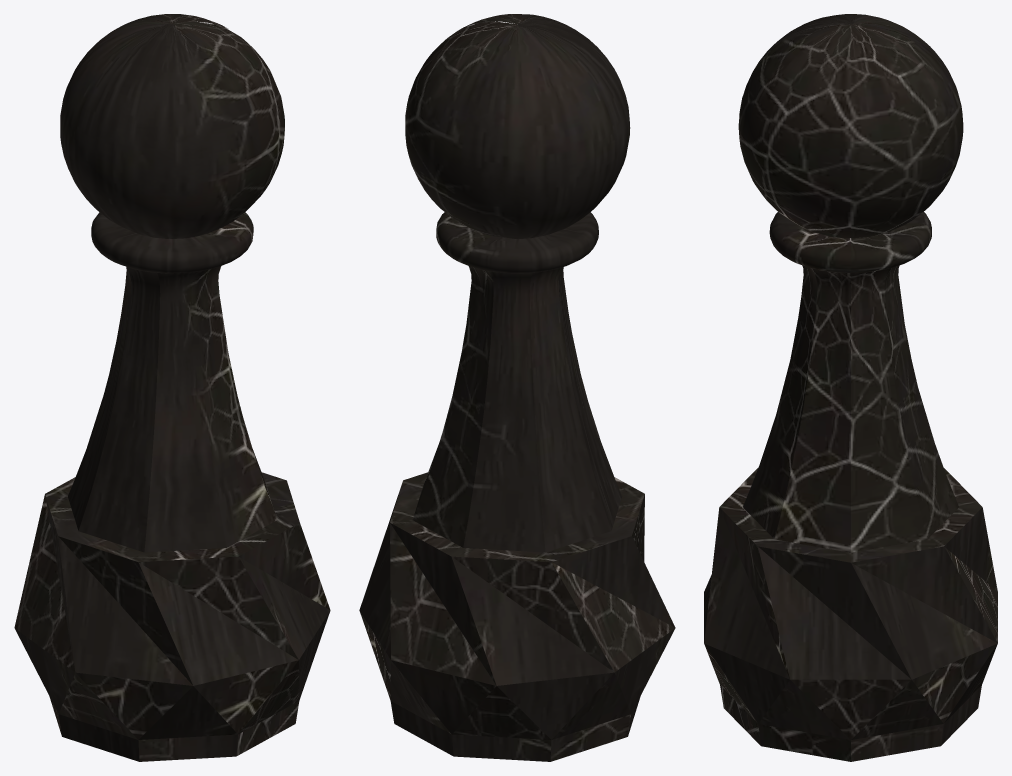
The model's file is lithoxyl_pawn_black.glb.
3 renders of one model, left to right at view 1: azimuth 30°, elevation 25°; view 2: azimuth 150°, elevation 25°; view 3: azimuth 270°, elevation 25°, orthographic.
Visible parts, largest first — view 1: Lithoxyl_Pawn_Onyx; view 2: Lithoxyl_Pawn_Onyx; view 3: Lithoxyl_Pawn_Onyx.
Boxes of the visible parts, left/top/right/bottom form: Lithoxyl_Pawn_Onyx: left=14, top=14, right=330, bottom=761; Lithoxyl_Pawn_Onyx: left=359, top=14, right=675, bottom=761; Lithoxyl_Pawn_Onyx: left=704, top=14, right=997, bottom=761.
Size of the model in its own units: 0.0214 by 0.055 by 0.0214.
Materials: 1 (1 with a texture image).
